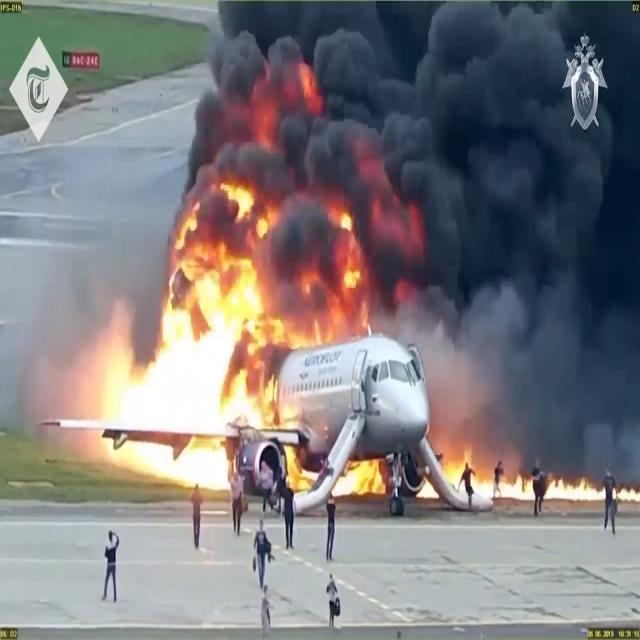Fire: (93, 178, 326, 490), (338, 454, 388, 500)
Smoke: (177, 1, 633, 311)
